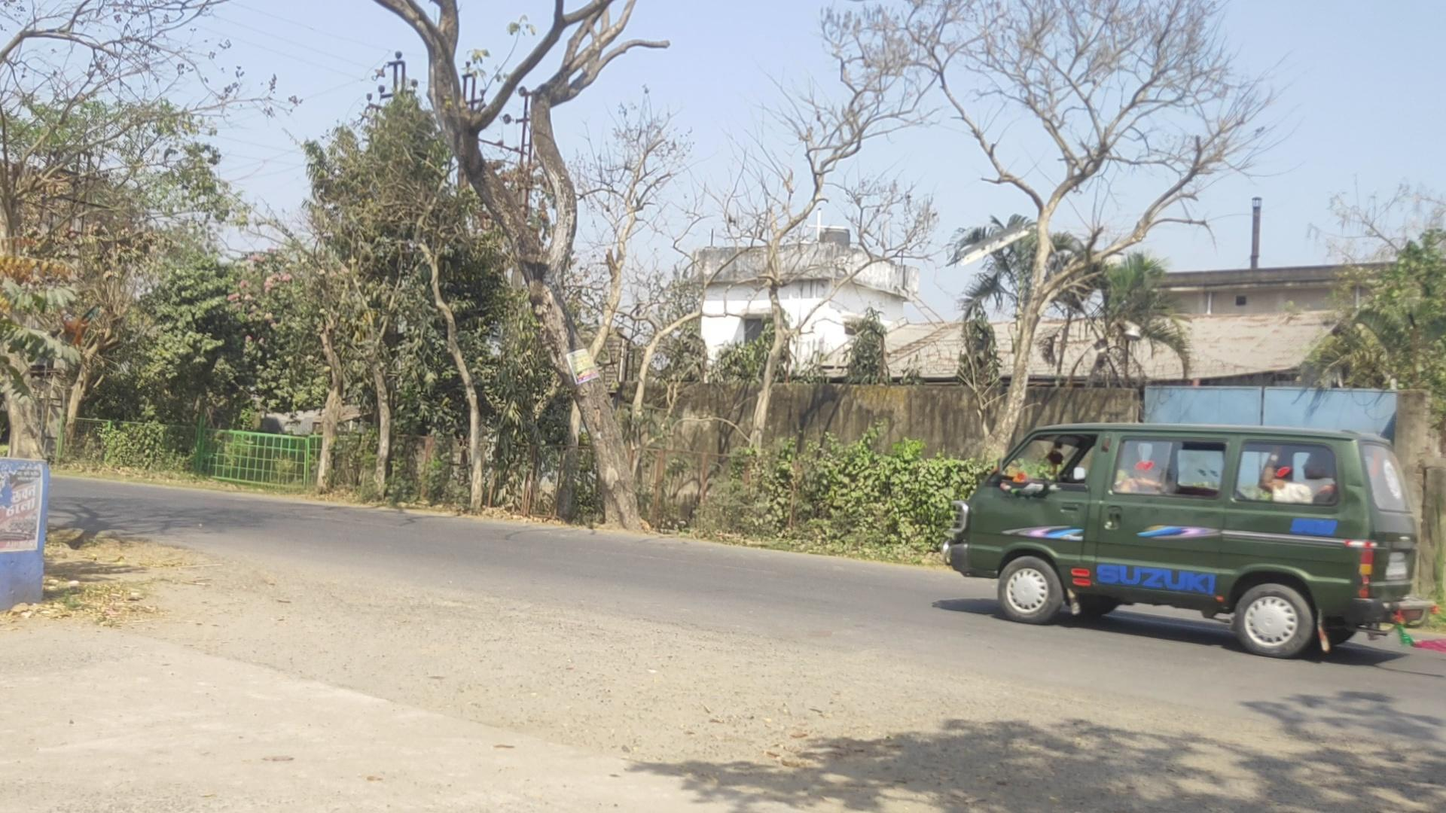van: (941, 422, 1437, 658)
